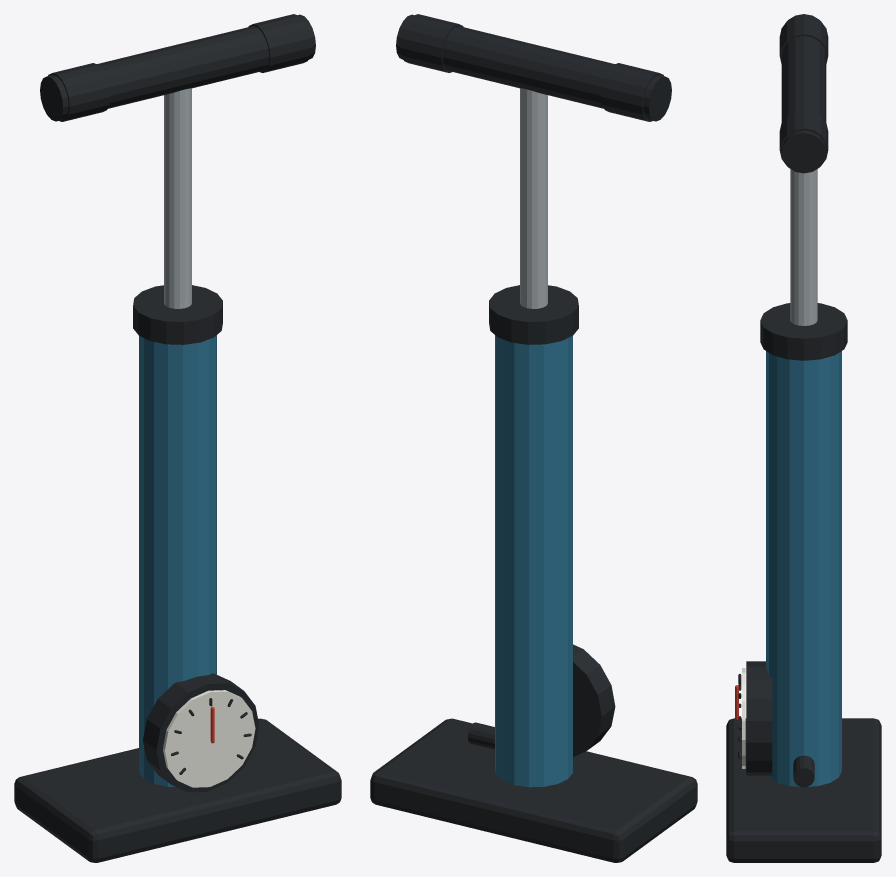
File: bicycle-pump-v31.glb
3 views of the same model, side by side, from view 1: azimuth 30°, elevation 25°; view 2: azimuth 150°, elevation 25°; view 3: azimuth 270°, elevation 25° (orthographic). The views are drawn at different scales.
Visible parts, largest first — view 1: Pump barrel, Foot plate, PumpHandle, Gauge dial, Chrome piston, Barrel collar, Gauge housing, Grip ribs, Grip ribs.001; view 2: Pump barrel, Foot plate, PumpHandle, Chrome piston, Barrel collar, Gauge housing, Grip ribs, Grip ribs.001; view 3: Pump barrel, Foot plate, PumpHandle, Chrome piston, Barrel collar, Gauge housing, Grip ribs.001, Grip ribs, Hose outlet, Gauge dial.
Boxes of the visible parts, x1,y1,x2,y2 form: Pump barrel: (139,335,216,786); Foot plate: (14,718,341,862); PumpHandle: (40,14,315,121); Gauge dial: (163,690,255,787); Chrome piston: (164,88,191,308); Barrel collar: (133,285,222,344); Gauge housing: (143,673,259,792); Grip ribs: (48,63,110,121); Grip ribs.001: (248,14,311,72); Pump barrel: (495,335,572,787); Foot plate: (370,718,697,862); PumpHandle: (396,14,671,121); Chrome piston: (520,88,547,308); Barrel collar: (489,285,578,344); Gauge housing: (573,644,615,756); Grip ribs: (601,63,663,121); Grip ribs.001: (400,14,463,72); Pump barrel: (766,351,841,786); Foot plate: (726,718,881,862); PumpHandle: (781,14,826,173); Chrome piston: (790,169,817,325); Barrel collar: (760,303,847,360); Gauge housing: (746,661,772,775); Grip ribs.001: (779,109,828,165); Grip ribs: (779,15,828,63); Hose outlet: (793,755,814,787); Gauge dial: (742,668,745,768).
Size of the model in its own units: 0.29 by 0.835 by 0.16.
